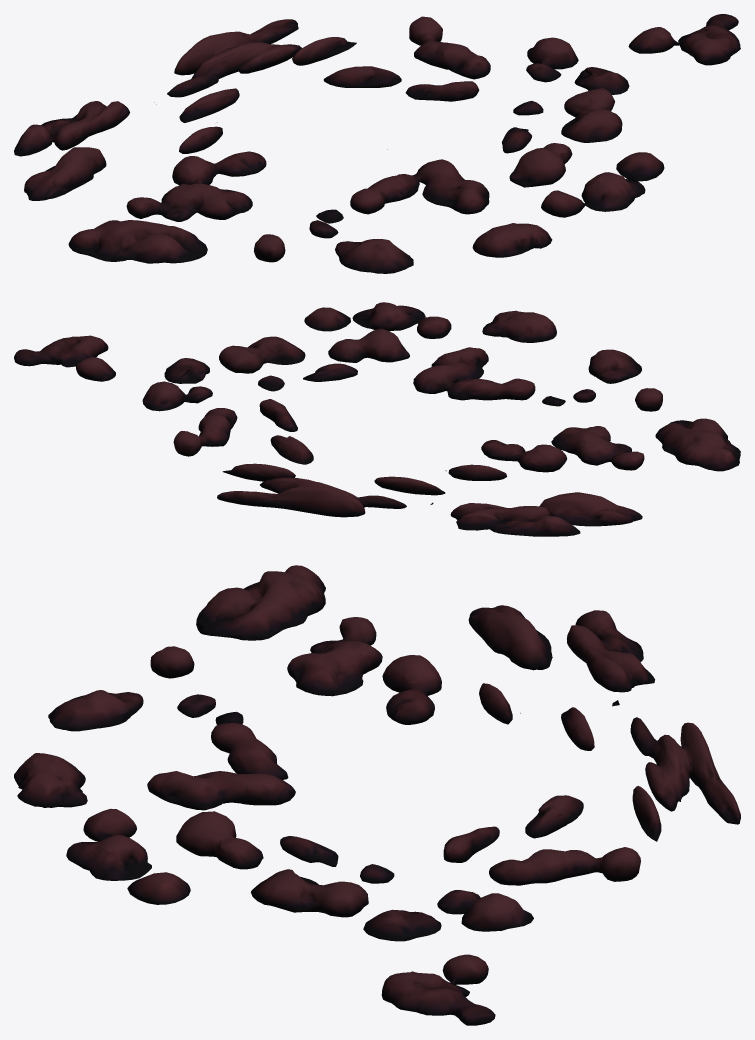
The model's file is clouds.fbx.
3 renders of one model, top to bottom at view 1: azimuth 30°, elevation 25°; view 2: azimuth 150°, elevation 25°; view 3: azimuth 270°, elevation 25°, orthographic. The views are drawn at different scales.
Visible parts, largest first — view 1: cliffrock_generator59.023; view 2: cliffrock_generator59.023; view 3: cliffrock_generator59.023.
Boxes of the visible parts, x1=… form: cliffrock_generator59.023: x1=14, y1=14, x2=740, y2=273; cliffrock_generator59.023: x1=14, y1=302, x2=740, y2=536; cliffrock_generator59.023: x1=14, y1=565, x2=740, y2=1025.
Bounding box in the file's own units: 40683 × 1996 × 28061.
